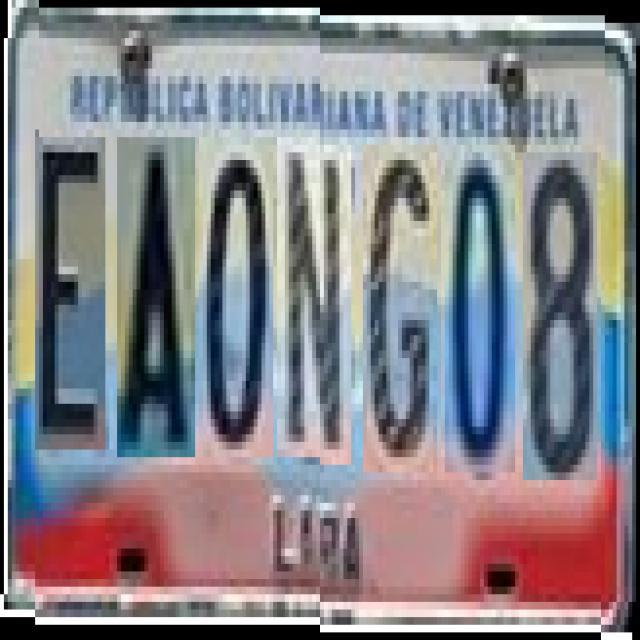8: (523, 145, 597, 472)
A: (117, 137, 195, 457)
E: (35, 137, 105, 450)
G: (363, 137, 437, 465)
N: (277, 137, 351, 457)
O: (199, 137, 273, 457), (445, 145, 515, 465)
